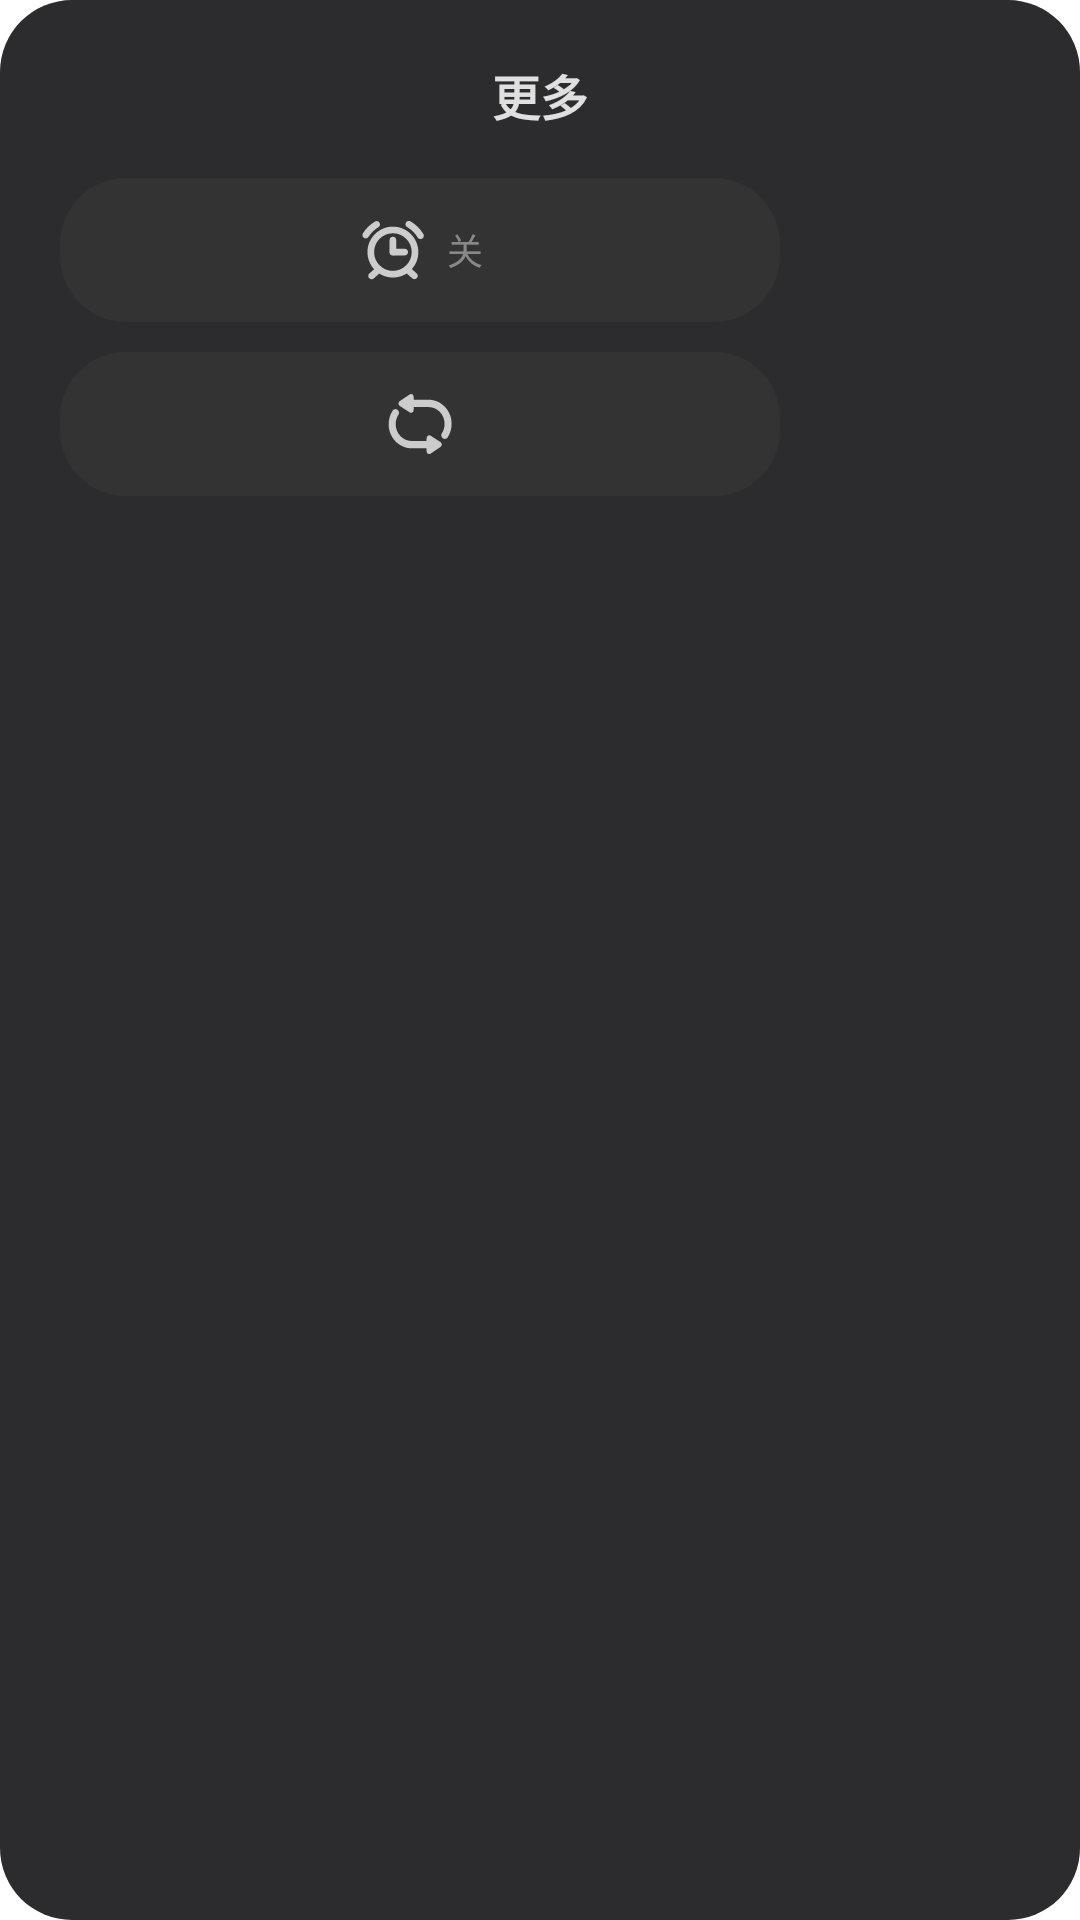

Icons on this 1080w x 1920h Android screen, each with the point to tap as (x,y):
定时关闭: (393,250)
循环模式: (420,424)
